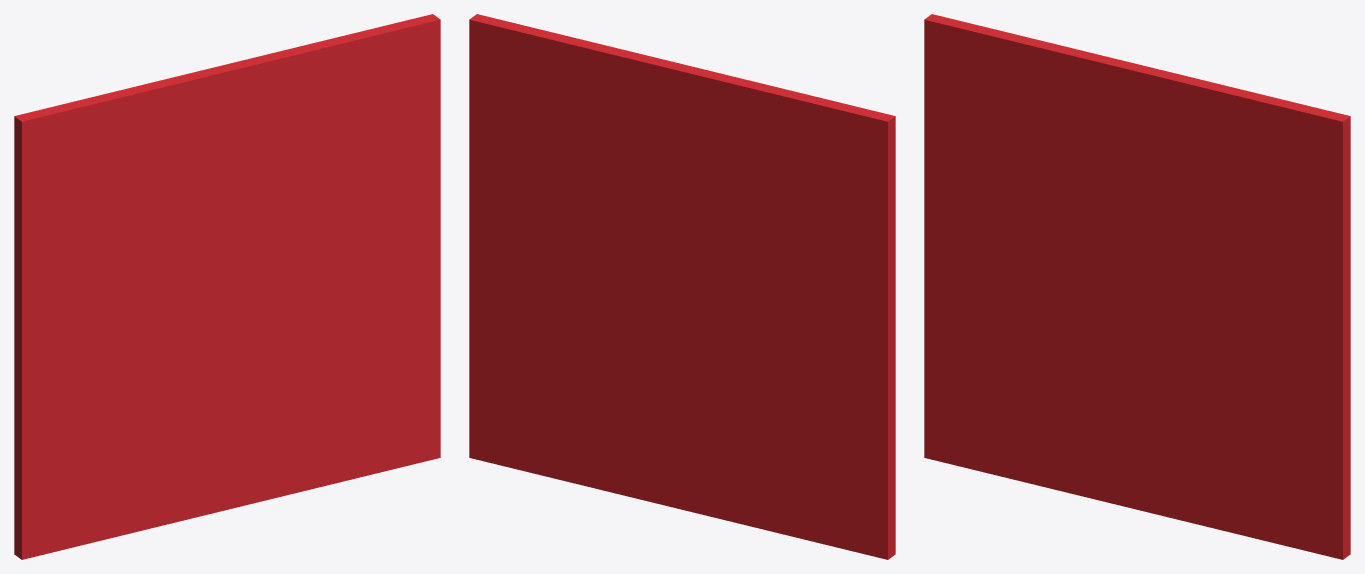
File: DestroyedWall.fbx
The picture shows the model from 3 angles, left to right: view 1: azimuth 30°, elevation 25°; view 2: azimuth 150°, elevation 25°; view 3: azimuth 330°, elevation 25°; orthographic projection.
Visible parts, largest first — view 1: Cell, Cell_cell.022, Cell_cell.007, Cell_cell.019, Cell_cell, Cell_cell.021, Cell_cell.004, Cell_cell.023, Cell_cell.006, Cell_cell.033, Cell_cell.010, Cell_cell.014 (+13 smaller); view 2: Cell, Cell_cell.034, Cell_cell.010, Cell_cell.033, Cell_cell.004, Cell_cell.036, Cell_cell.022, Cell_cell.005, Cell_cell.019, Cell_cell.035, Cell_cell.012, Cell_cell.016 (+15 smaller); view 3: Cell, Cell_cell.022, Cell_cell.007, Cell_cell.019, Cell_cell.033, Cell_cell.010, Cell_cell.021, Cell_cell.014, Cell_cell.030, Cell_cell.009, Cell_cell, Cell_cell.012 (+13 smaller).
Part boxes in pixels (x1,y1,x2,y2): Cell: (14,14,440,559); Cell_cell.022: (64,252,186,410); Cell_cell.007: (174,261,296,403); Cell_cell.019: (14,144,155,289); Cell_cell: (18,465,162,559); Cell_cell.021: (354,72,440,172); Cell_cell.004: (241,165,358,332); Cell_cell.023: (149,177,289,270); Cell_cell.006: (241,332,358,442); Cell_cell.033: (144,101,267,190); Cell_cell.010: (345,290,440,463); Cell_cell.014: (347,163,440,297); Cell: (469,14,895,559); Cell_cell.034: (529,39,663,191); Cell_cell.010: (469,293,558,458); Cell_cell.033: (641,105,761,195); Cell_cell.004: (539,167,662,327); Cell_cell.036: (528,427,649,500); Cell_cell.022: (741,249,845,408); Cell_cell.005: (715,375,800,472); Cell_cell.019: (748,148,894,285); Cell_cell.035: (831,341,894,458); Cell_cell.012: (634,60,751,126); Cell_cell.016: (829,263,894,355); Cell: (924,14,1350,559); Cell_cell.022: (966,212,1088,356); Cell_cell.007: (1076,256,1198,407); Cell_cell.019: (924,61,1059,215); Cell_cell.033: (1047,83,1174,197); Cell_cell.010: (1247,383,1350,542); Cell_cell.021: (1256,163,1343,270); Cell_cell.014: (1249,219,1349,391); Cell_cell.030: (1055,324,1142,423); Cell_cell.009: (1063,423,1159,514); Cell_cell: (924,407,1064,489); Cell_cell.012: (1058,48,1184,106).
Bounding box in the file's own units: 13.51 × 13.51 × 0.431.
